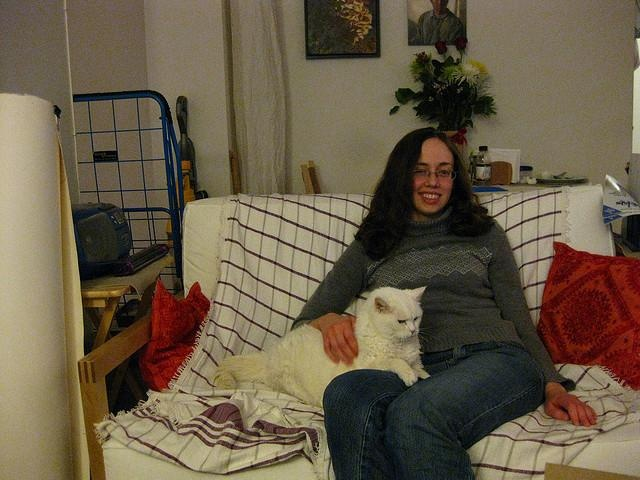person: (283, 128, 602, 478)
